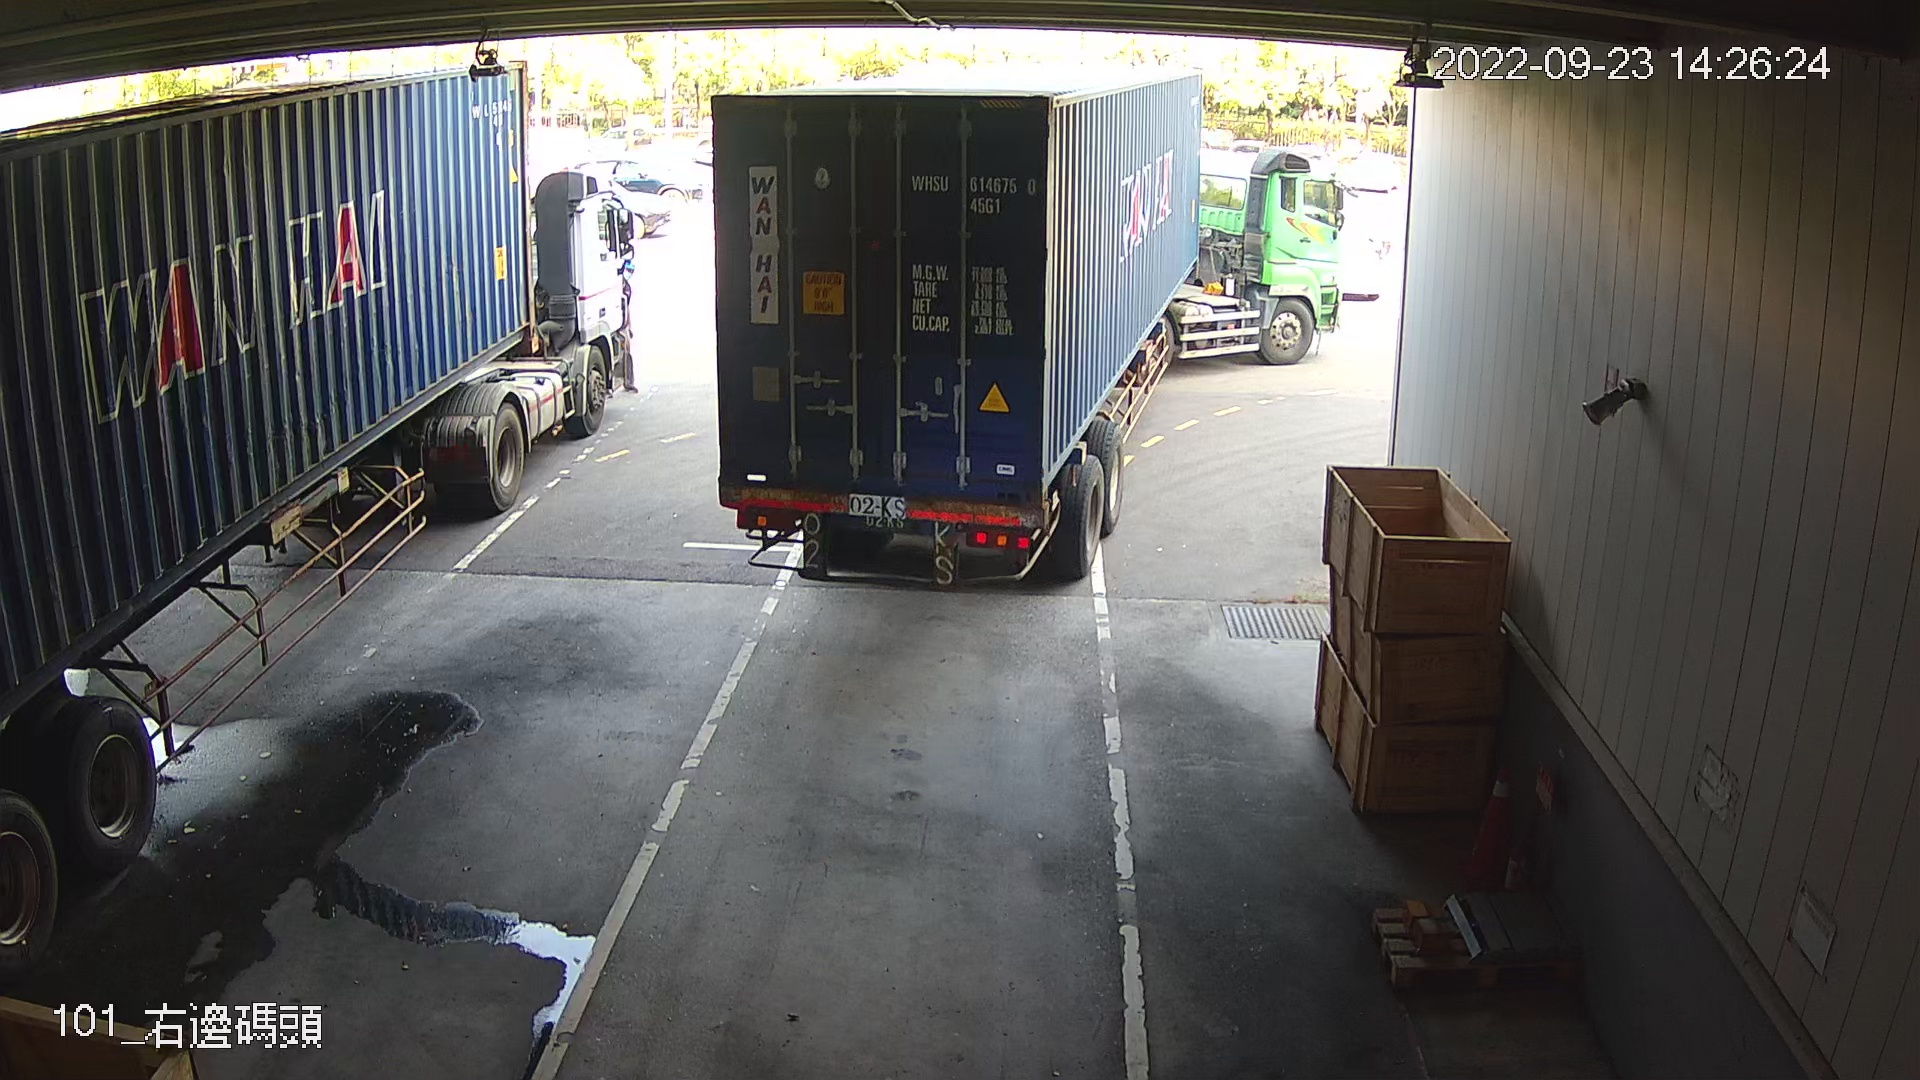container: (905, 164, 1040, 219)
